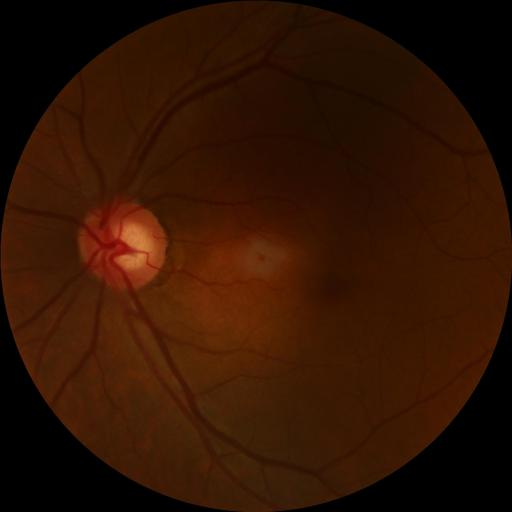Optic Cup: (110, 222, 153, 270)
Optic Disc: (76, 201, 167, 290)
